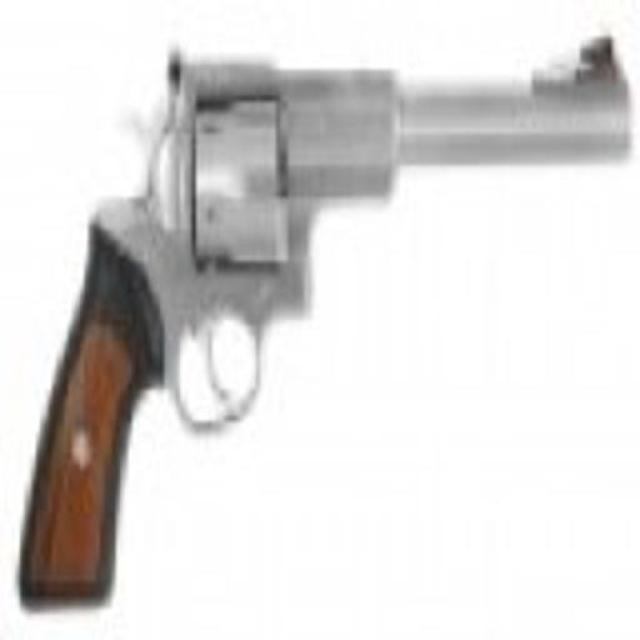pistol: (20, 31, 627, 596)
